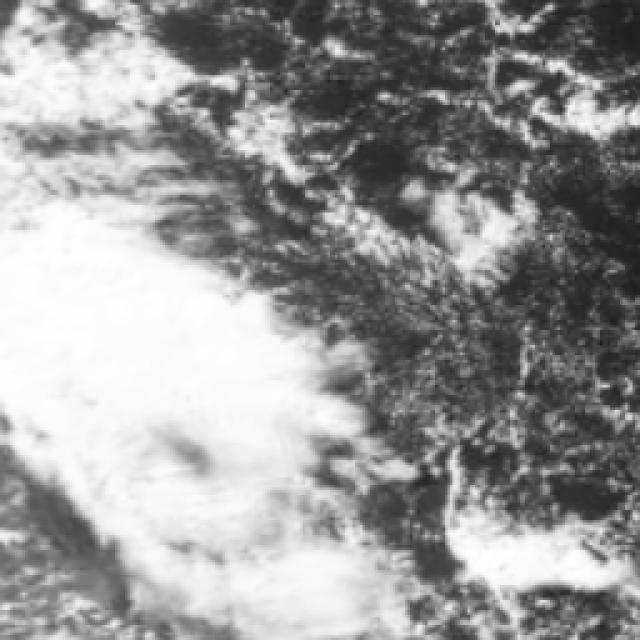CB: (9, 253, 164, 420), (159, 500, 341, 639)
